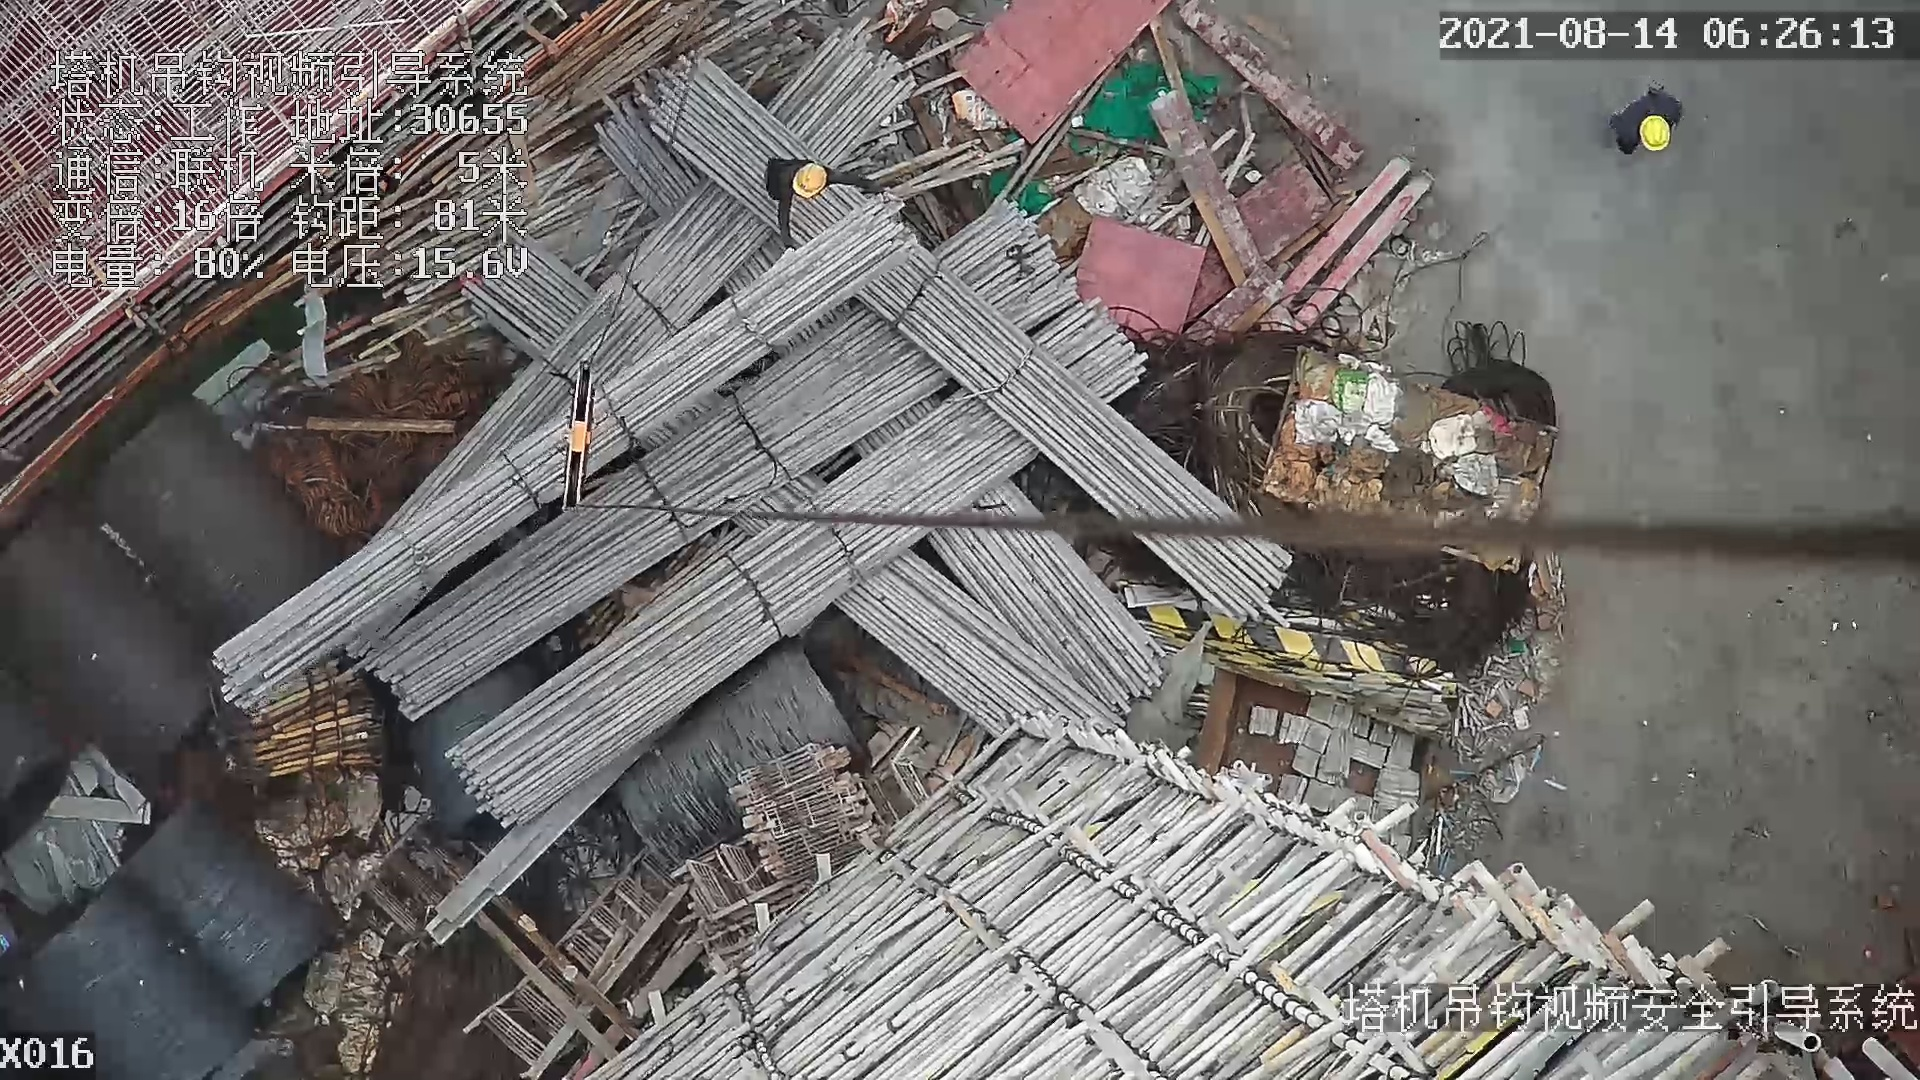helmet: (796, 161, 828, 198), (1637, 116, 1670, 150)
hook: (558, 353, 605, 522)
person: (762, 145, 897, 244), (1586, 78, 1690, 162)
